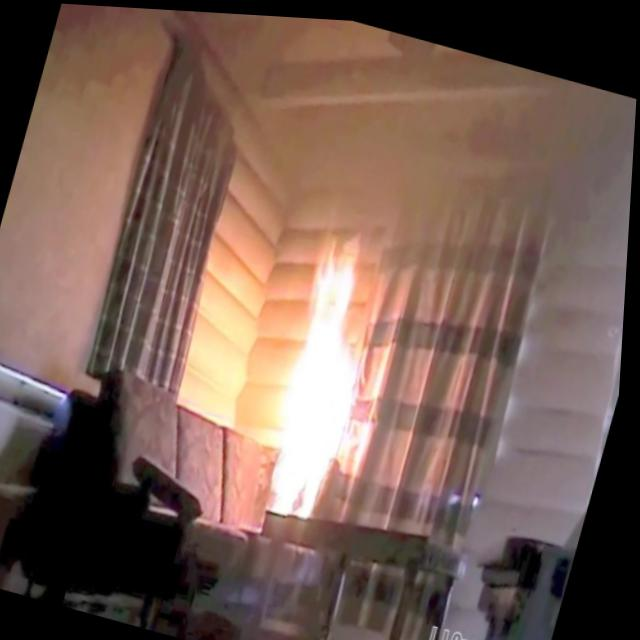fire: (247, 231, 403, 533)
